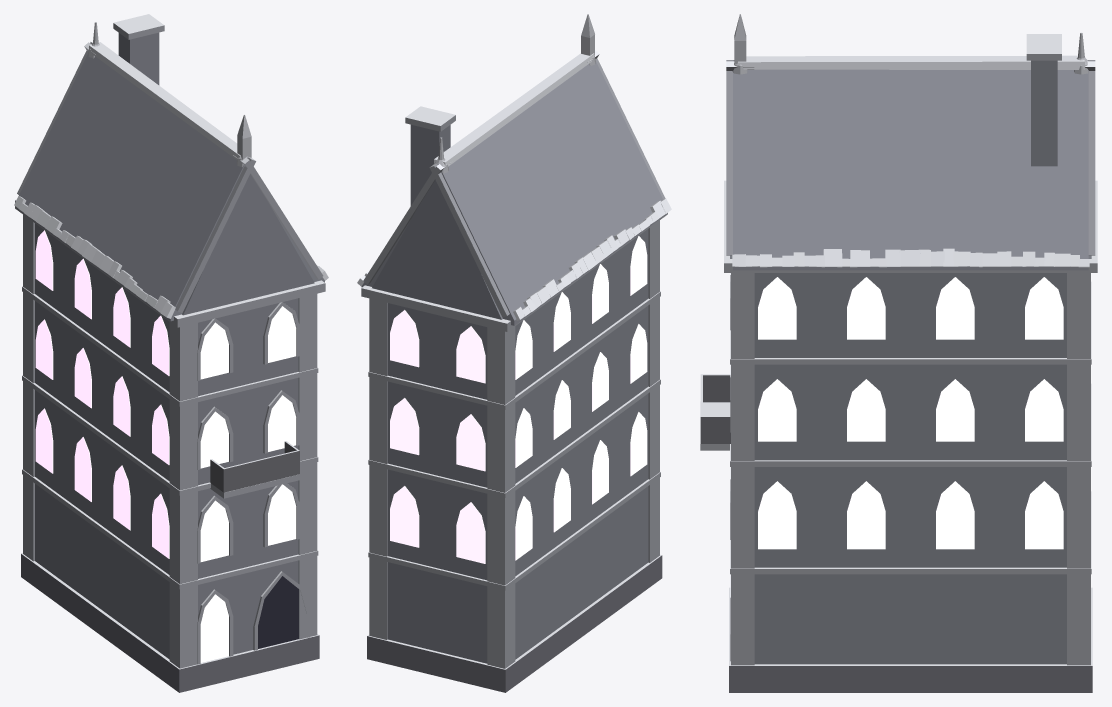
Rendered from AR_Lote_Estreito.fbx.
3 renders of one model, left to right at view 1: azimuth 30°, elevation 25°; view 2: azimuth 150°, elevation 25°; view 3: azimuth 270°, elevation 25°, orthographic. The views are drawn at different scales.
Visible parts, largest first — view 1: AR_Lote_Estreito; view 2: AR_Lote_Estreito; view 3: AR_Lote_Estreito.
Part boxes in pixels (left/top/right/bottom): AR_Lote_Estreito: left=14, top=14, right=328, bottom=692; AR_Lote_Estreito: left=357, top=14, right=671, bottom=692; AR_Lote_Estreito: left=700, top=14, right=1097, bottom=692.
Bounding box in the file's own units: 7.29 × 23.8 × 13.4.
